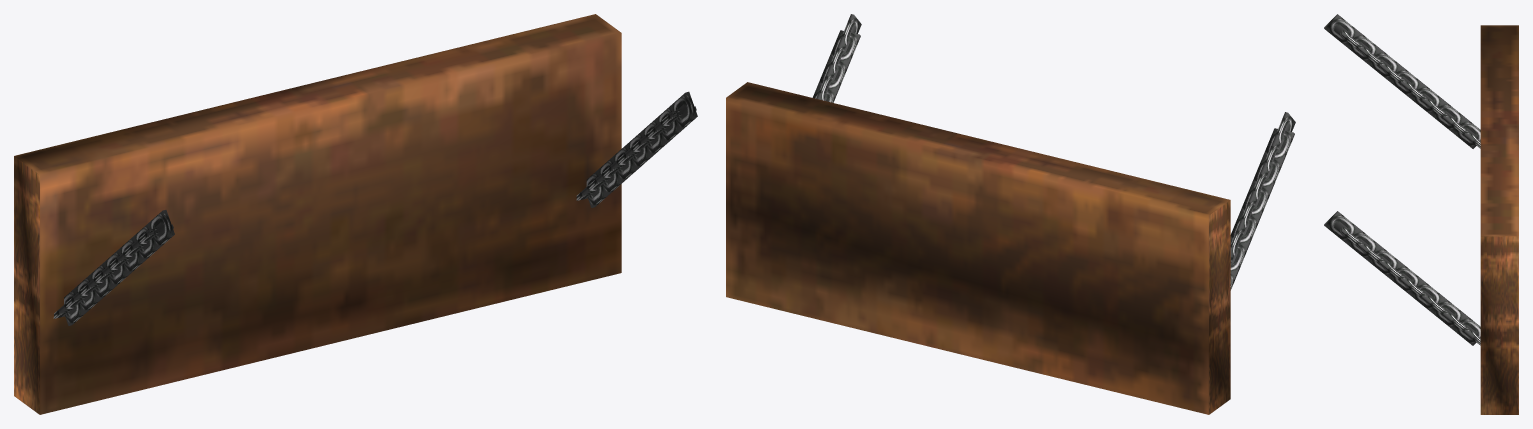
Rendered from INST_SWORDLIGHT_JAILCOTA.fbx.
3 renders of one model, left to right at view 1: azimuth 30°, elevation 25°; view 2: azimuth 150°, elevation 25°; view 3: azimuth 270°, elevation 25°, orthographic. The views are drawn at different scales.
Visible parts, largest first — view 1: INST_SWORDLIGHT_JAILCOTA; view 2: INST_SWORDLIGHT_JAILCOTA; view 3: INST_SWORDLIGHT_JAILCOTA.
Part boxes in pixels (box(x1,y1,x2,y2)): INST_SWORDLIGHT_JAILCOTA: box(14, 14, 697, 414); INST_SWORDLIGHT_JAILCOTA: box(726, 14, 1295, 414); INST_SWORDLIGHT_JAILCOTA: box(1324, 14, 1518, 414).
Bounding box in the file's own units: 24917 × 10983 × 9715.
2 materials, 2 textured.
